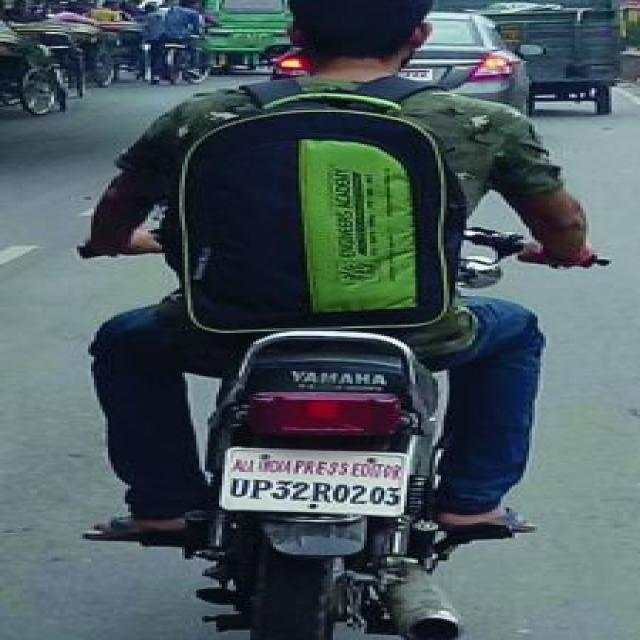license_plate: (214, 443, 412, 517)
